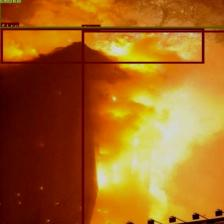fire: (81, 30, 224, 224), (0, 28, 204, 63)
smoke: (0, 0, 224, 28)
